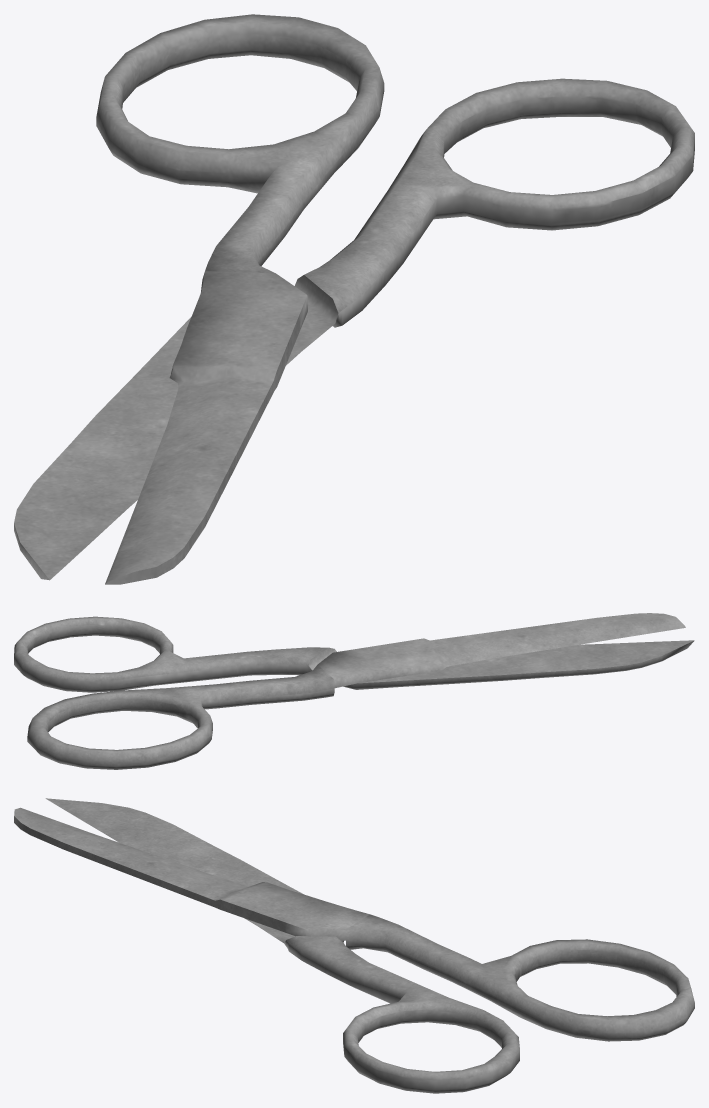
Rendered from tool_scissors.glb.
3 views of the same model, one above another, from view 1: azimuth 30°, elevation 25°; view 2: azimuth 150°, elevation 25°; view 3: azimuth 270°, elevation 25° (orthographic). The views are drawn at different scales.
Parts seen in each view (by area): view 1: tool_scissors; view 2: tool_scissors; view 3: tool_scissors.
Part boxes in pixels (left/top/right/bottom): tool_scissors: left=14, top=14, right=694, bottom=584; tool_scissors: left=14, top=613, right=694, bottom=769; tool_scissors: left=14, top=798, right=694, bottom=1093.
Size of the model in its own units: 0.144 by 0.00473 by 0.1444.
1 material, 1 textured.
